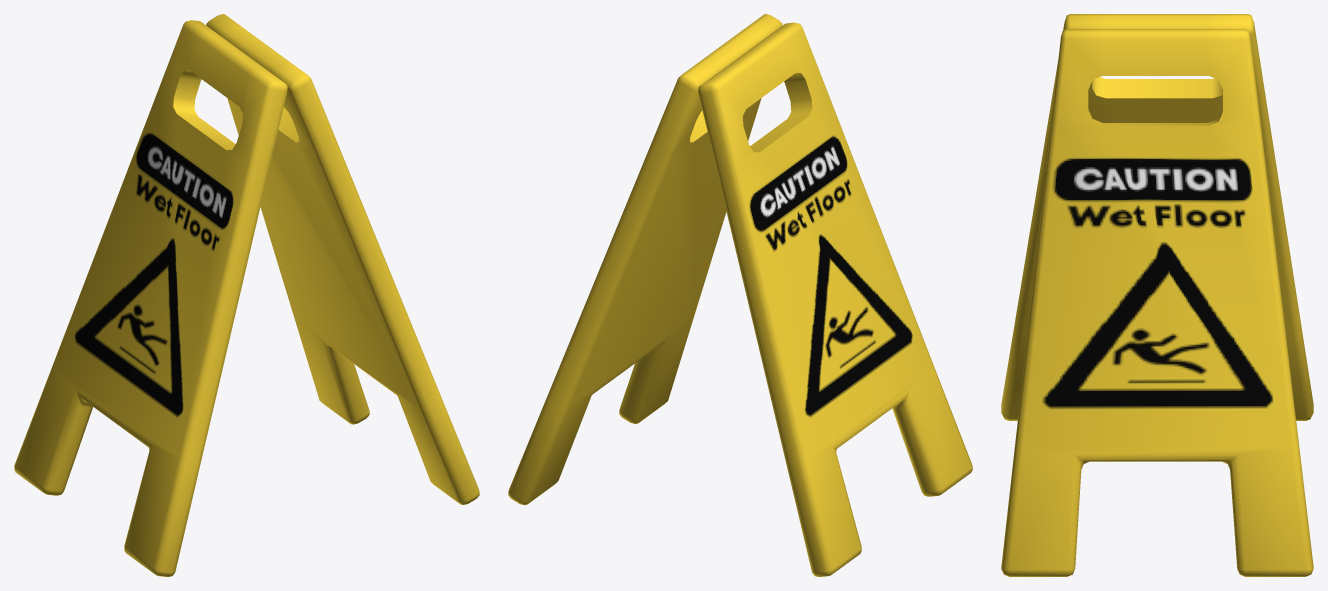
File: Caution-Wet Floor.fbx
The picture shows the model from 3 angles, left to right: view 1: azimuth 30°, elevation 25°; view 2: azimuth 150°, elevation 25°; view 3: azimuth 270°, elevation 25°; orthographic projection. The views are drawn at different scales.
Parts seen in each view (by area): view 1: Caution-Wet Floor; view 2: Caution-Wet Floor; view 3: Caution-Wet Floor.
Boxes of the visible parts, x1,y1,x2,y2 form: Caution-Wet Floor: (14,14,479,576); Caution-Wet Floor: (508,14,972,576); Caution-Wet Floor: (1001,14,1313,576).
Bounding box in the file's own units: 0.2923 × 0.2265 × 0.3792.
